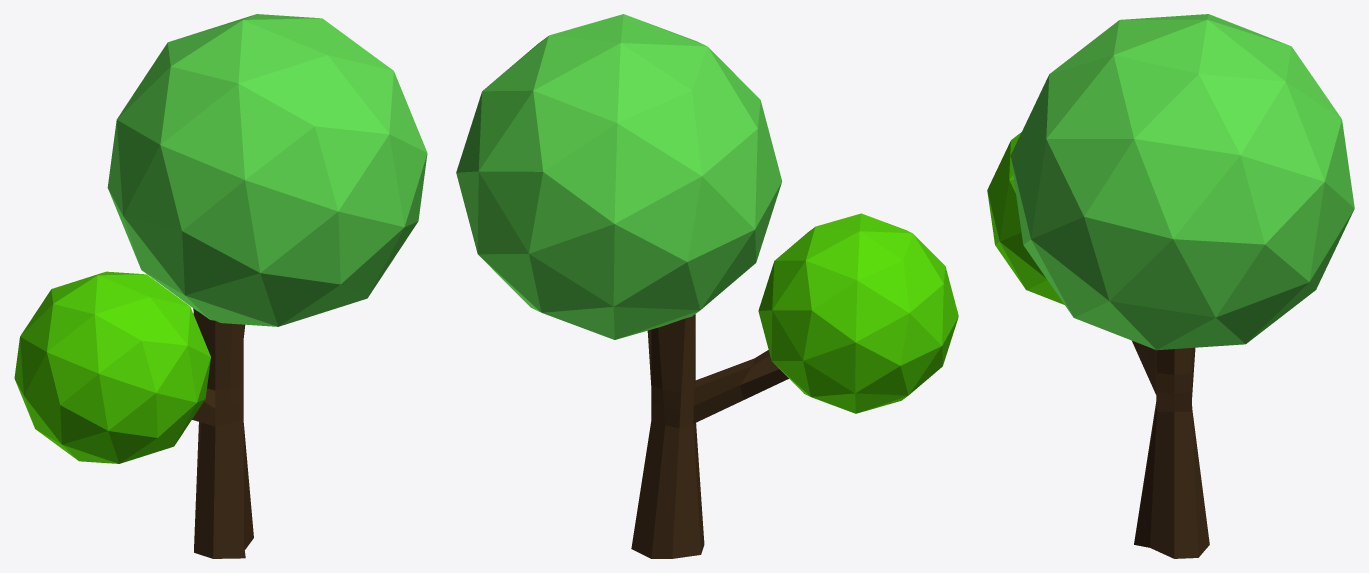
The model's file is tree2 (1).fbx.
3 views of the same model, side by side, from view 1: azimuth 30°, elevation 25°; view 2: azimuth 150°, elevation 25°; view 3: azimuth 270°, elevation 25° (orthographic). The views are drawn at different scales.
Parts seen in each view (by area): view 1: Icosphere, Icosphere.001, Cube; view 2: Icosphere, Icosphere.001, Cube; view 3: Icosphere, Cube, Icosphere.001.
Boxes of the visible parts, x1,y1,x2,y2 form: Icosphere: [107, 14, 427, 326]; Icosphere.001: [14, 271, 210, 463]; Cube: [192, 308, 253, 558]; Icosphere: [456, 14, 782, 339]; Icosphere.001: [758, 213, 958, 413]; Cube: [631, 314, 788, 558]; Icosphere: [1010, 14, 1354, 350]; Cube: [1132, 340, 1209, 558]; Icosphere.001: [987, 132, 1064, 304].
Bounding box in the file's own units: 1955 × 2235 × 1375.
